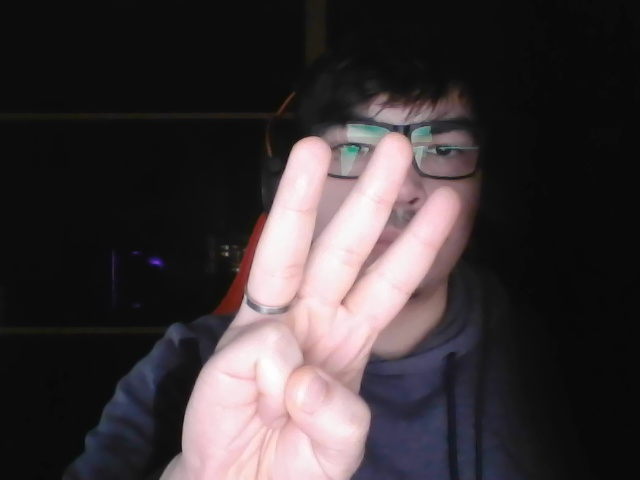three: (168, 131, 468, 480)
